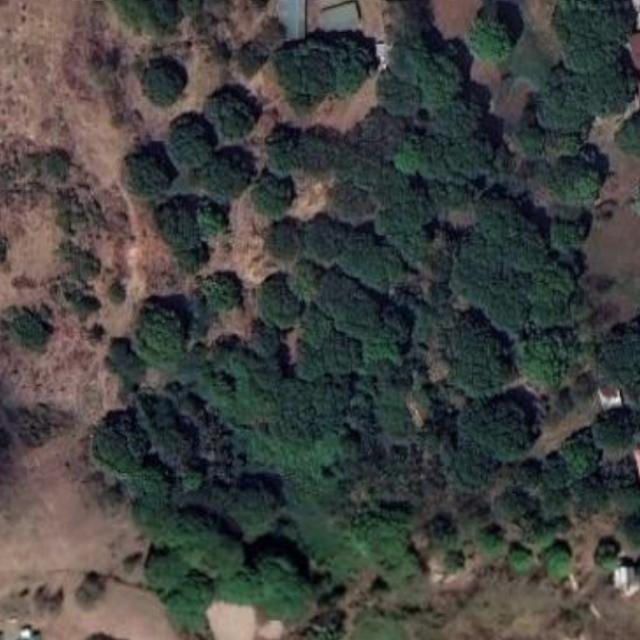Tree: (450, 191, 570, 336), (123, 495, 245, 591), (309, 264, 402, 369), (530, 47, 640, 134), (273, 31, 372, 114), (374, 34, 460, 121), (546, 0, 636, 74), (459, 389, 536, 474), (236, 550, 314, 630), (443, 315, 511, 399), (134, 396, 195, 470), (545, 146, 611, 213), (513, 328, 574, 399), (338, 228, 402, 294), (155, 196, 207, 275), (513, 111, 587, 166), (88, 411, 144, 482), (138, 540, 196, 606), (131, 304, 184, 372), (463, 7, 522, 68), (217, 475, 280, 532), (203, 81, 256, 148), (597, 311, 640, 393), (165, 111, 218, 175), (196, 152, 258, 206), (426, 84, 485, 140), (370, 378, 417, 448), (122, 142, 174, 204), (446, 125, 500, 183), (379, 192, 437, 245), (252, 270, 301, 329), (301, 207, 349, 266), (106, 0, 180, 38), (325, 180, 382, 228), (94, 336, 145, 388), (258, 129, 306, 183), (318, 327, 362, 384), (591, 408, 634, 466), (139, 56, 183, 109), (545, 202, 591, 252), (197, 269, 243, 316), (264, 219, 308, 268), (252, 170, 296, 218), (389, 132, 432, 181), (376, 297, 416, 346), (559, 439, 603, 482), (421, 512, 464, 554), (286, 259, 325, 305), (250, 358, 292, 399), (496, 481, 534, 523), (246, 320, 282, 364), (290, 340, 324, 382), (592, 532, 626, 570), (478, 517, 508, 560), (436, 546, 472, 577), (516, 459, 547, 494), (541, 546, 573, 579), (502, 548, 534, 579), (173, 0, 210, 22)
